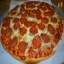pepperoni: (24, 7, 44, 18), (29, 20, 45, 33), (29, 35, 43, 49), (8, 36, 20, 49), (18, 40, 29, 52), (10, 21, 22, 31), (39, 33, 51, 42), (4, 28, 13, 39), (47, 23, 56, 33)
pizza: (1, 1, 64, 64)
